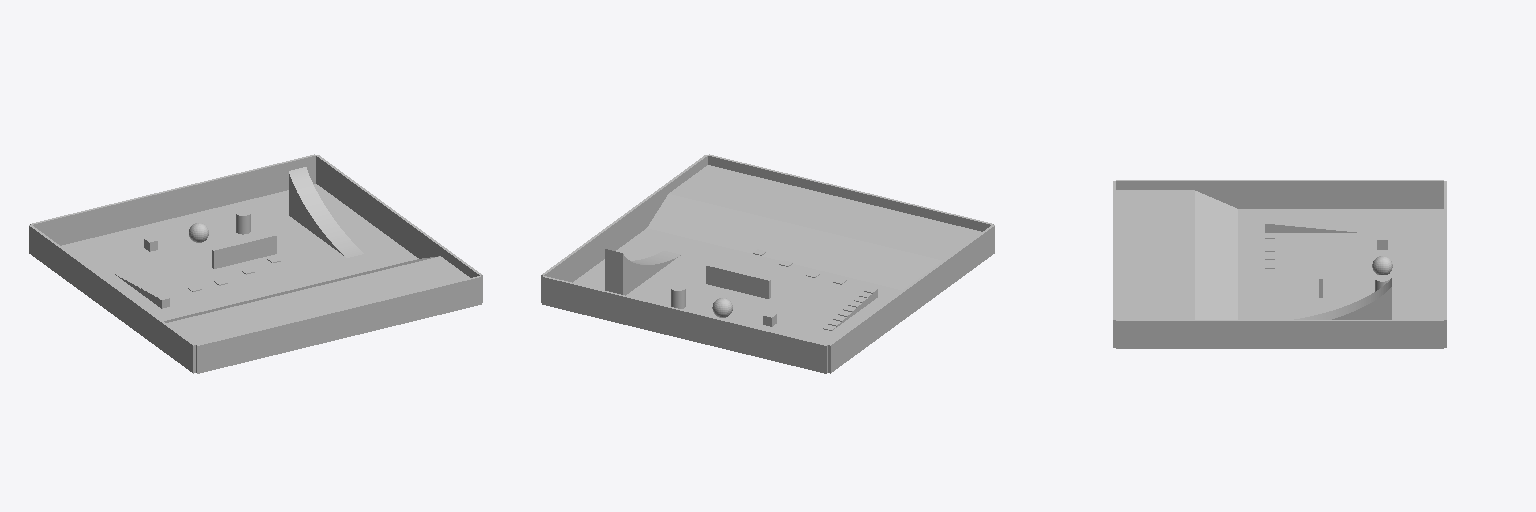
File: TestLevel.obj
3 renders of one model, left to right at view 1: azimuth 30°, elevation 25°; view 2: azimuth 150°, elevation 25°; view 3: azimuth 270°, elevation 25°, orthographic.
Visible parts, largest first — view 1: Plane, Cube.004, Cube.001, Cube.003, Cube.002, CurvedRamp, Cube.005; view 2: Plane, Cube.001, Cube.003, Cube.002, Cube.004, CurvedRamp, Cube.005; view 3: Plane, Cube.002, Cube.003, CurvedRamp.
Boxes of the visible parts, x1=… form: Plane: x1=61, y1=184, x2=469, y2=344; Cube.004: x1=196, y1=276, x2=481, y2=373; Cube.001: x1=30, y1=154, x2=315, y2=245; Cube.003: x1=29, y1=225, x2=195, y2=373; Cube.002: x1=316, y1=155, x2=482, y2=302; CurvedRamp: x1=289, y1=167, x2=363, y2=257; Cube.005: x1=212, y1=234, x2=276, y2=268; Plane: x1=573, y1=165, x2=981, y2=344; Cube.001: x1=542, y1=276, x2=827, y2=373; Cube.003: x1=828, y1=225, x2=994, y2=373; Cube.002: x1=541, y1=155, x2=707, y2=302; Cube.004: x1=708, y1=154, x2=993, y2=231; CurvedRamp: x1=605, y1=249, x2=680, y2=295; Cube.005: x1=706, y1=264, x2=770, y2=298; Plane: x1=1116, y1=190, x2=1443, y2=319; Cube.002: x1=1116, y1=320, x2=1443, y2=348; Cube.003: x1=1116, y1=180, x2=1443, y2=208; CurvedRamp: x1=1294, y1=278, x2=1391, y2=319.
Bounding box in the file's own units: 32.6 × 4.78 × 32.6.